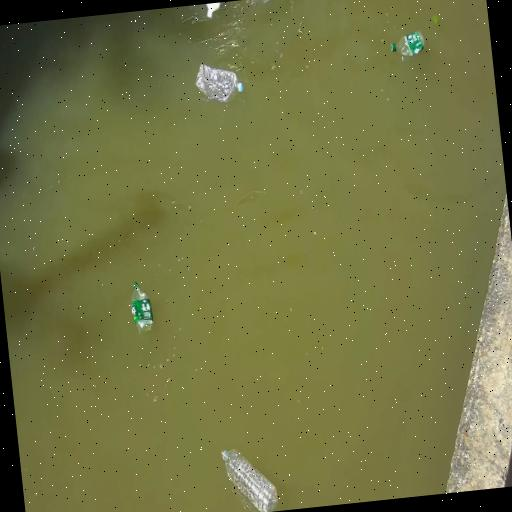plastic: (222, 450, 278, 511), (196, 64, 243, 102), (130, 281, 154, 335), (391, 30, 425, 57), (207, 2, 220, 19)
